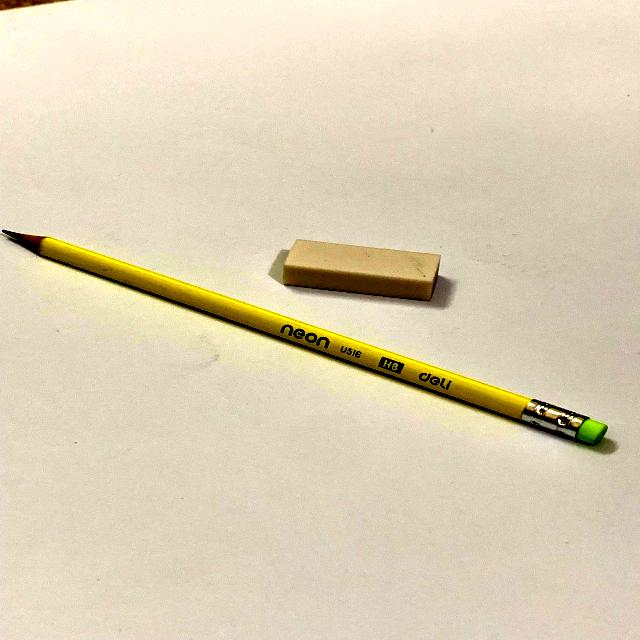Eraser: (267, 223, 454, 311)
Pencil: (3, 205, 635, 473)
